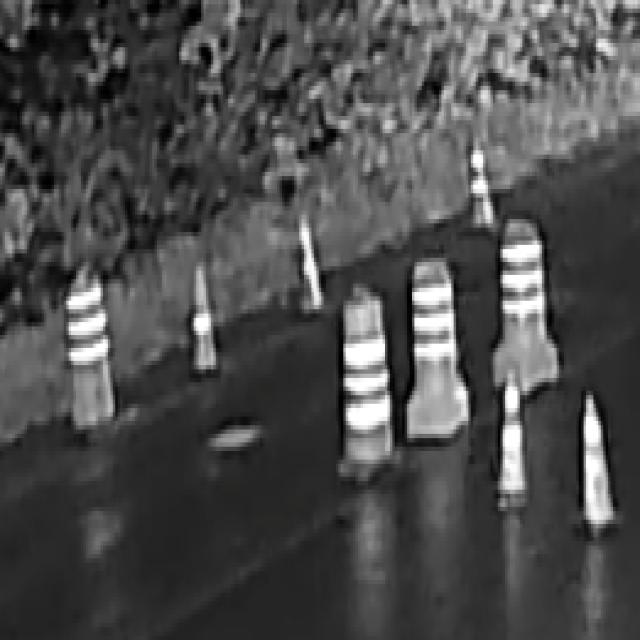big_cone: (409, 262, 468, 448), (338, 287, 395, 474), (61, 263, 116, 438), (496, 216, 548, 388)
small_cone: (574, 389, 617, 540), (495, 366, 534, 518), (292, 217, 328, 319), (462, 139, 498, 241), (186, 265, 218, 377)
